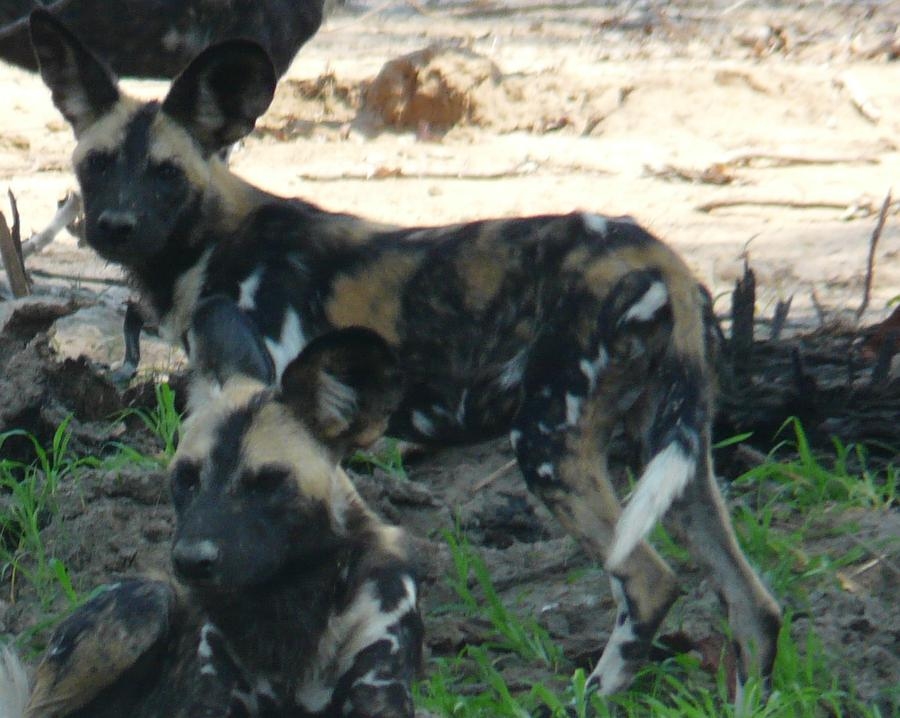wilddog: (1, 1, 900, 718)
